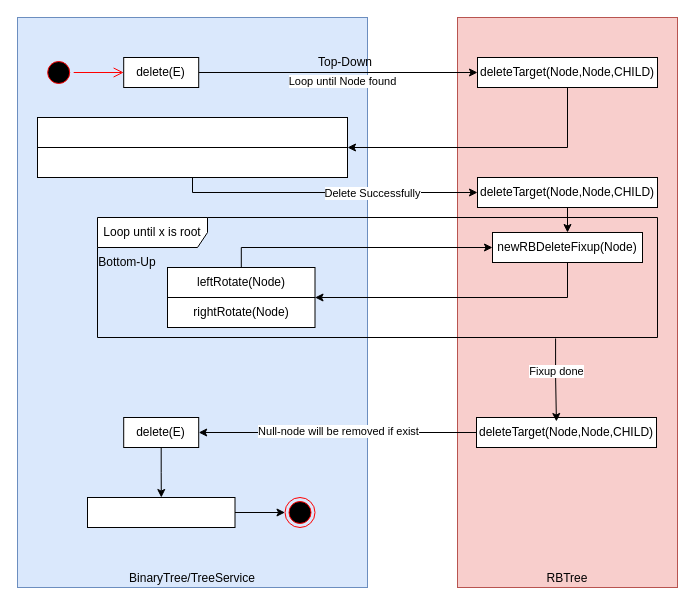
The diagram is 695 pixels wide and 605 high, and some of its shapes have lost their labels. Here are the shapes that lost their labels. From the top down, the centre of each, then its label:
the point at 192,132: replaceWithTheSmallestOfRightChildren(Node)
the point at 192,162: deleteTargetWithOneChildOrNone(Node,Node,CHILD)
the point at 160,512: removeNullNode(Node)
